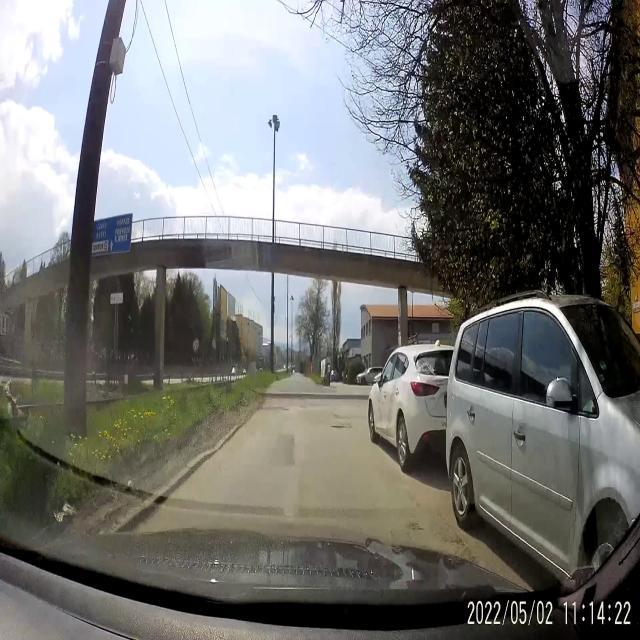Pothole: (328, 418, 356, 441), (258, 403, 292, 416), (404, 516, 424, 536)
